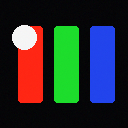2 circle: (12, 25, 36, 49)
